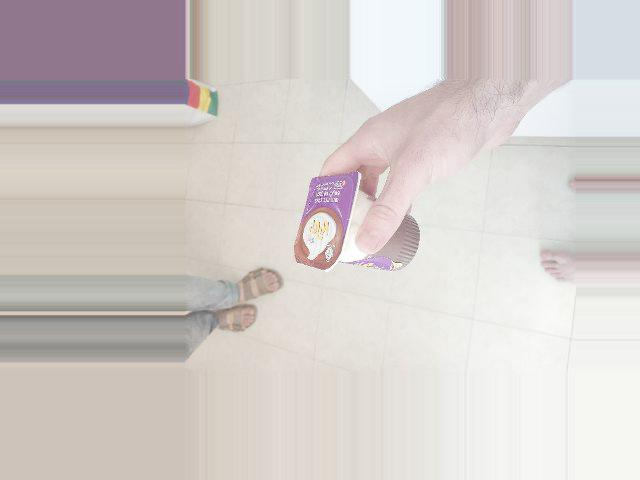milky: (286, 187, 375, 308)
